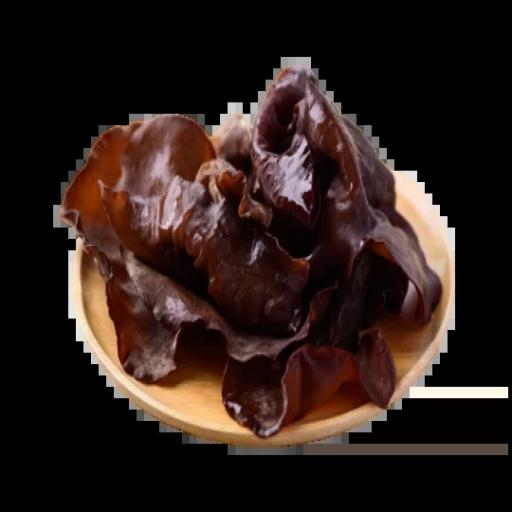Wood Ear Mushroom: (48, 72, 451, 431)
